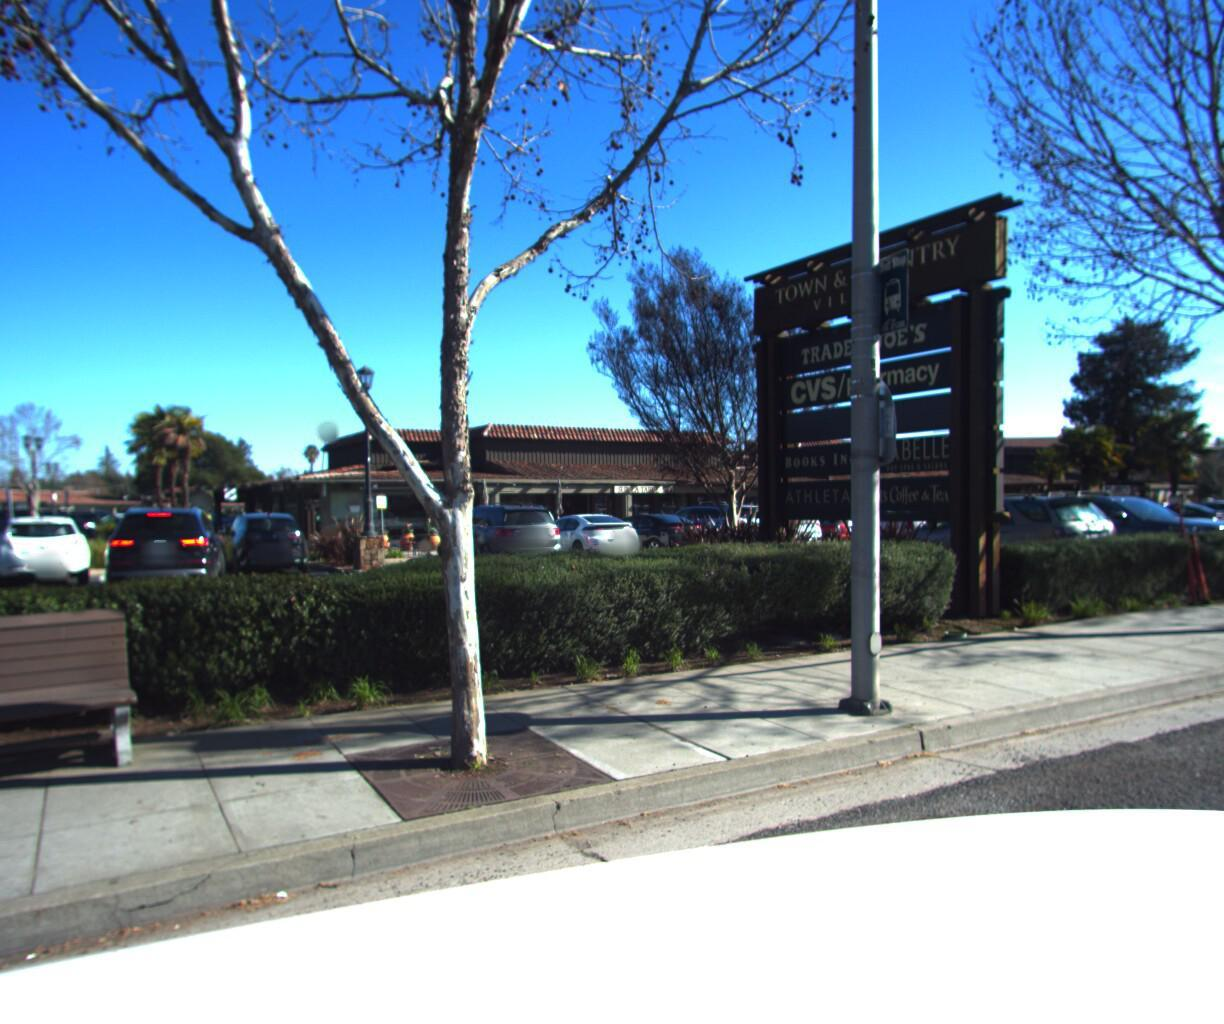car: (885, 484, 1147, 581), (984, 482, 1224, 575)
